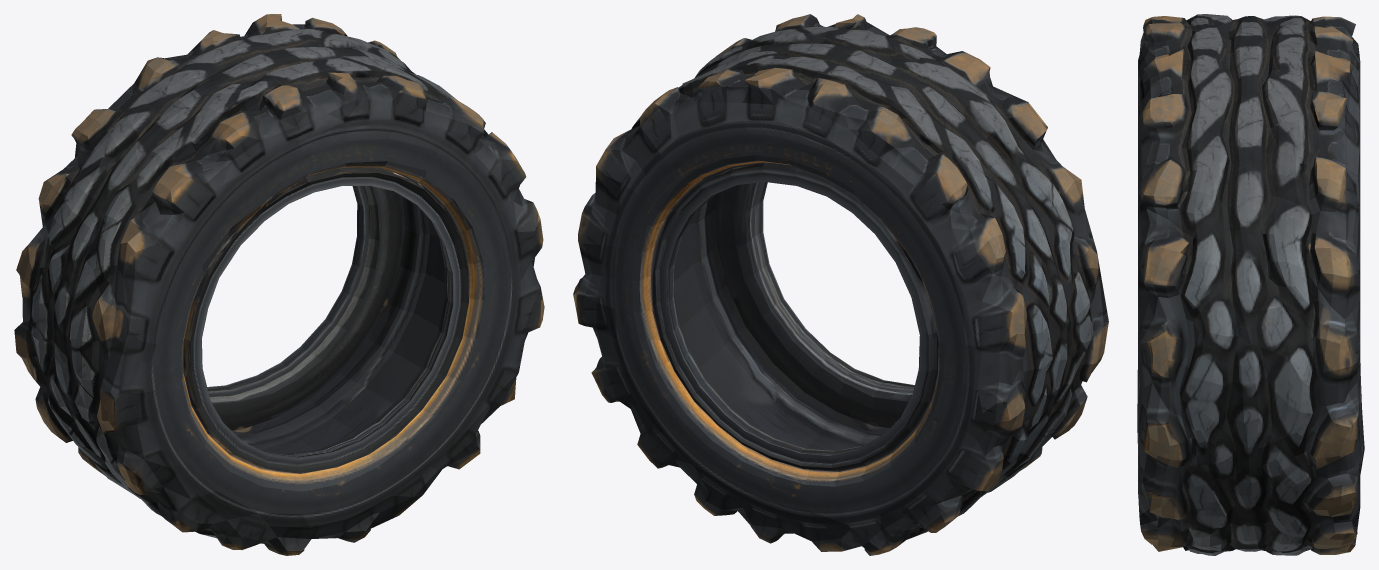
File: Meshy_AI_Stylized_low_poly_old_0519051515_texture.obj
3 views of the same model, side by side, from view 1: azimuth 30°, elevation 25°; view 2: azimuth 150°, elevation 25°; view 3: azimuth 270°, elevation 25° (orthographic). The views are drawn at different scales.
Visible parts, largest first — view 1: Meshy_AI_Stylized_low_poly_old_0519051515_texture; view 2: Meshy_AI_Stylized_low_poly_old_0519051515_texture; view 3: Meshy_AI_Stylized_low_poly_old_0519051515_texture.
Part boxes in pixels (x1,y1,x2,y2): Meshy_AI_Stylized_low_poly_old_0519051515_texture: (14,14,544,555); Meshy_AI_Stylized_low_poly_old_0519051515_texture: (573,14,1108,555); Meshy_AI_Stylized_low_poly_old_0519051515_texture: (1137,14,1364,555).
Bounding box in the file's own units: 1.91 × 1.91 × 0.803.
1 material, 1 textured.
